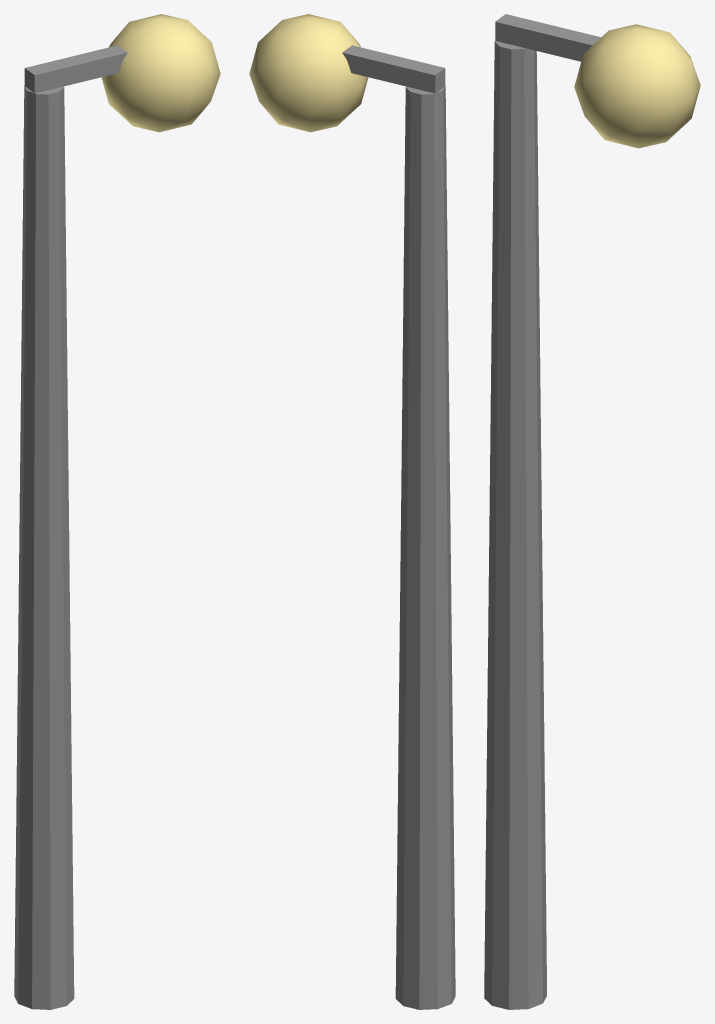
Rendered from lampu.glb.
The picture shows the model from 3 angles, left to right: view 1: azimuth 30°, elevation 25°; view 2: azimuth 150°, elevation 25°; view 3: azimuth 330°, elevation 25°; orthographic projection. The views are drawn at different scales.
Size of the model in its own units: 0.67 by 3.13 by 0.36.
